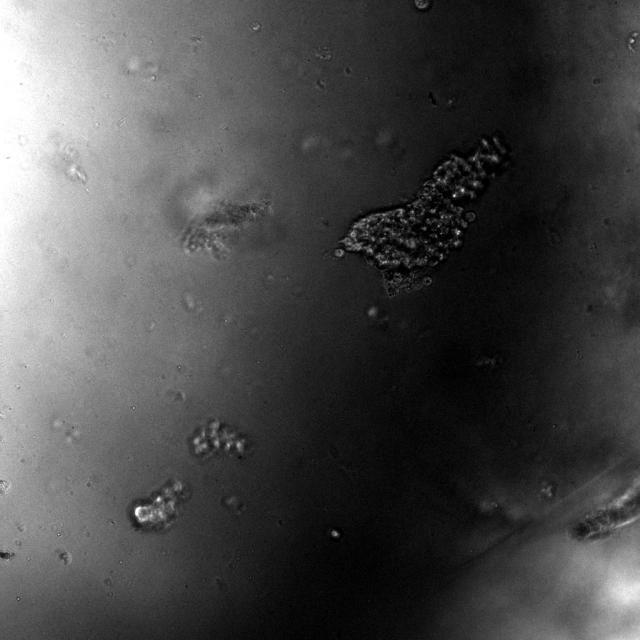organoid: (334, 134, 509, 297), (181, 201, 271, 257), (571, 476, 639, 540), (130, 478, 191, 531), (189, 418, 248, 459), (0, 550, 15, 559)
